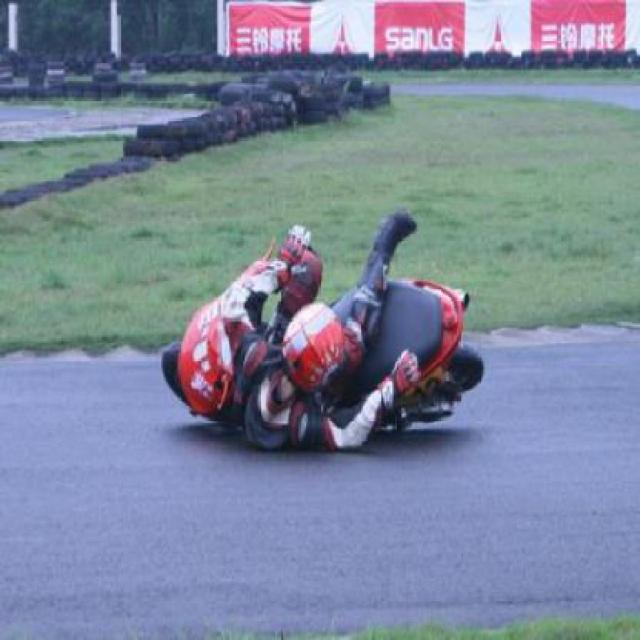fall: (162, 184, 460, 465)
